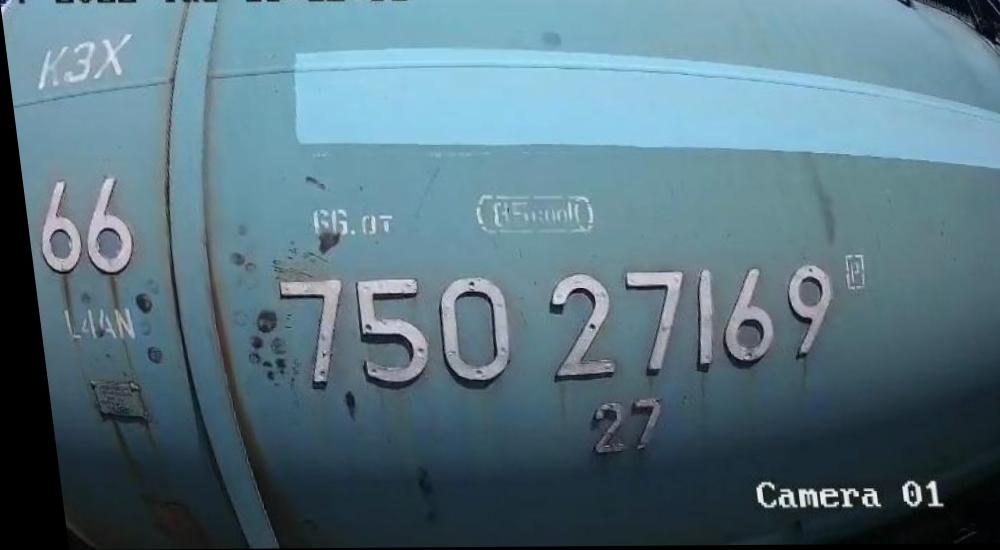Wagon-number: (265, 260, 840, 394)
